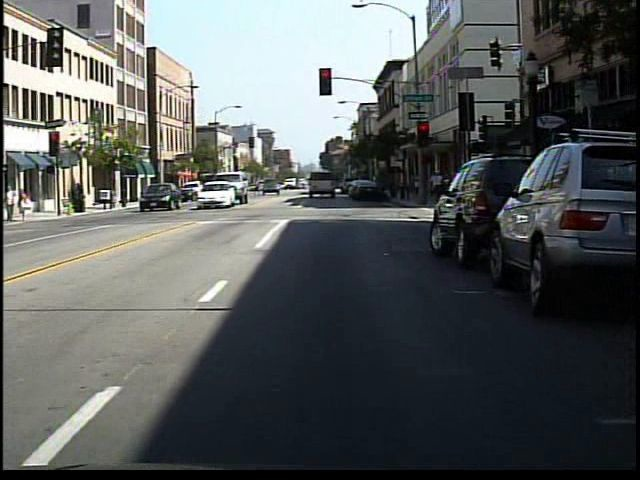person: (427, 166, 447, 206), (9, 183, 27, 226), (15, 185, 34, 222), (247, 173, 265, 201)
